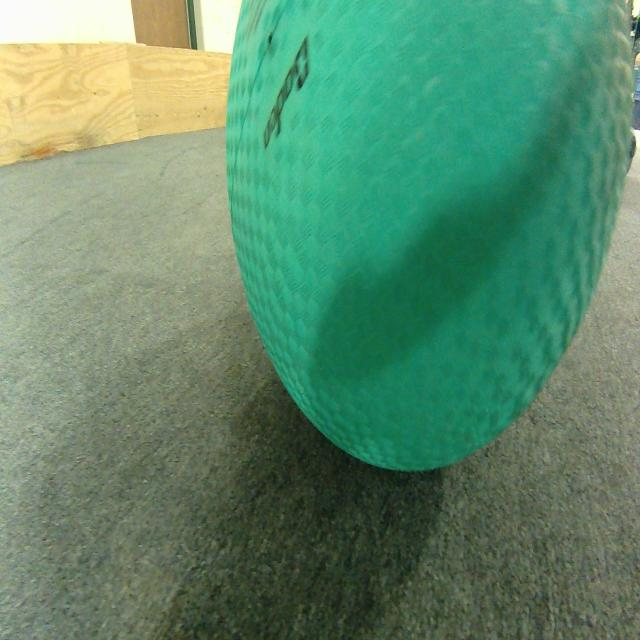algae: (225, 0, 640, 485)
